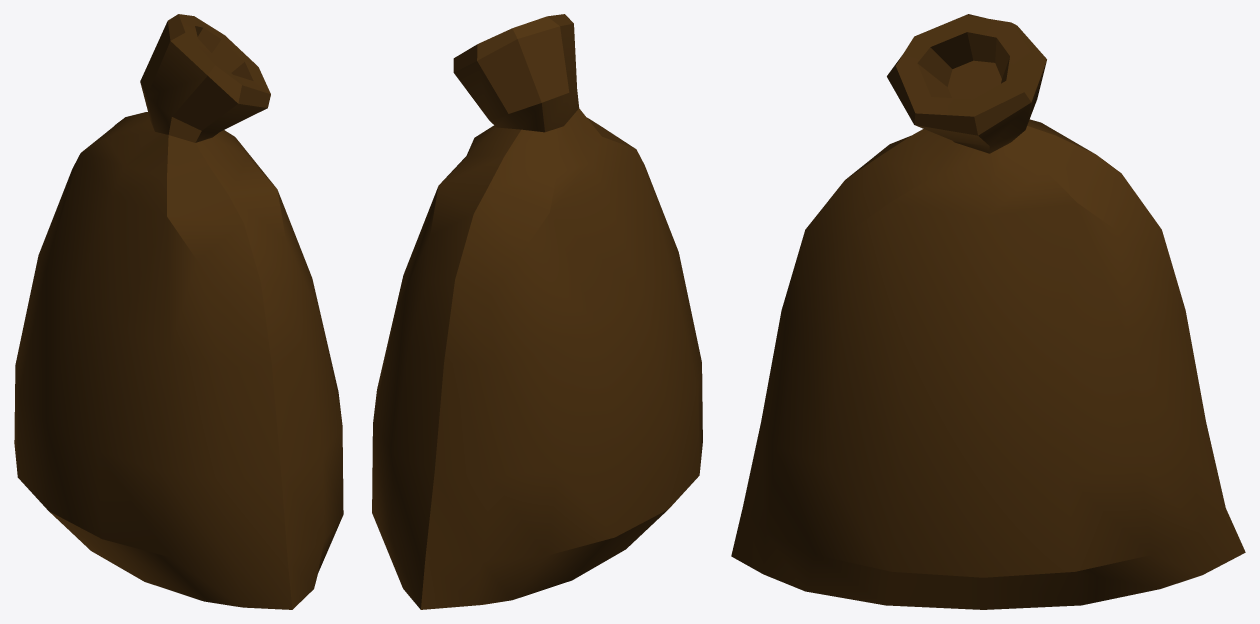
Rendered from bag.obj.
3 views of the same model, side by side, from view 1: azimuth 30°, elevation 25°; view 2: azimuth 150°, elevation 25°; view 3: azimuth 270°, elevation 25° (orthographic). The views are drawn at different scales.
Parts seen in each view (by area): view 1: Bag_Cube.909; view 2: Bag_Cube.909; view 3: Bag_Cube.909.
Boxes of the visible parts, left/top/right/bottom form: Bag_Cube.909: left=14, top=14, right=343, bottom=609; Bag_Cube.909: left=372, top=14, right=702, bottom=609; Bag_Cube.909: left=731, top=14, right=1245, bottom=609.
Size of the model in its own units: 0.4125 by 0.7755 by 0.6465.
